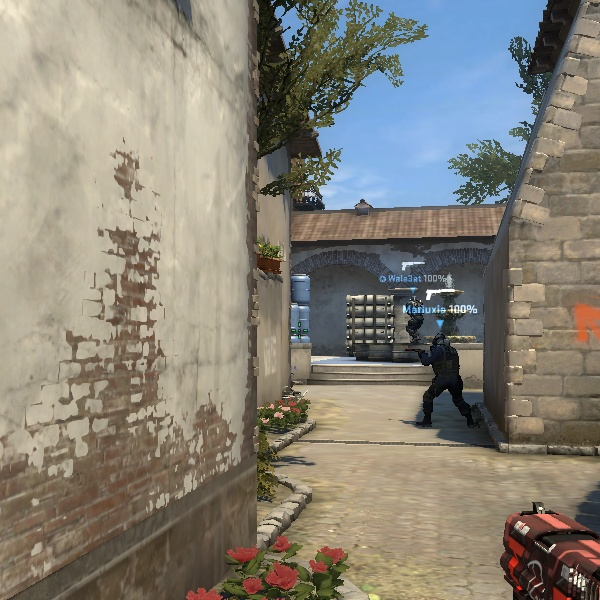ct_body: (409, 317, 475, 429)
